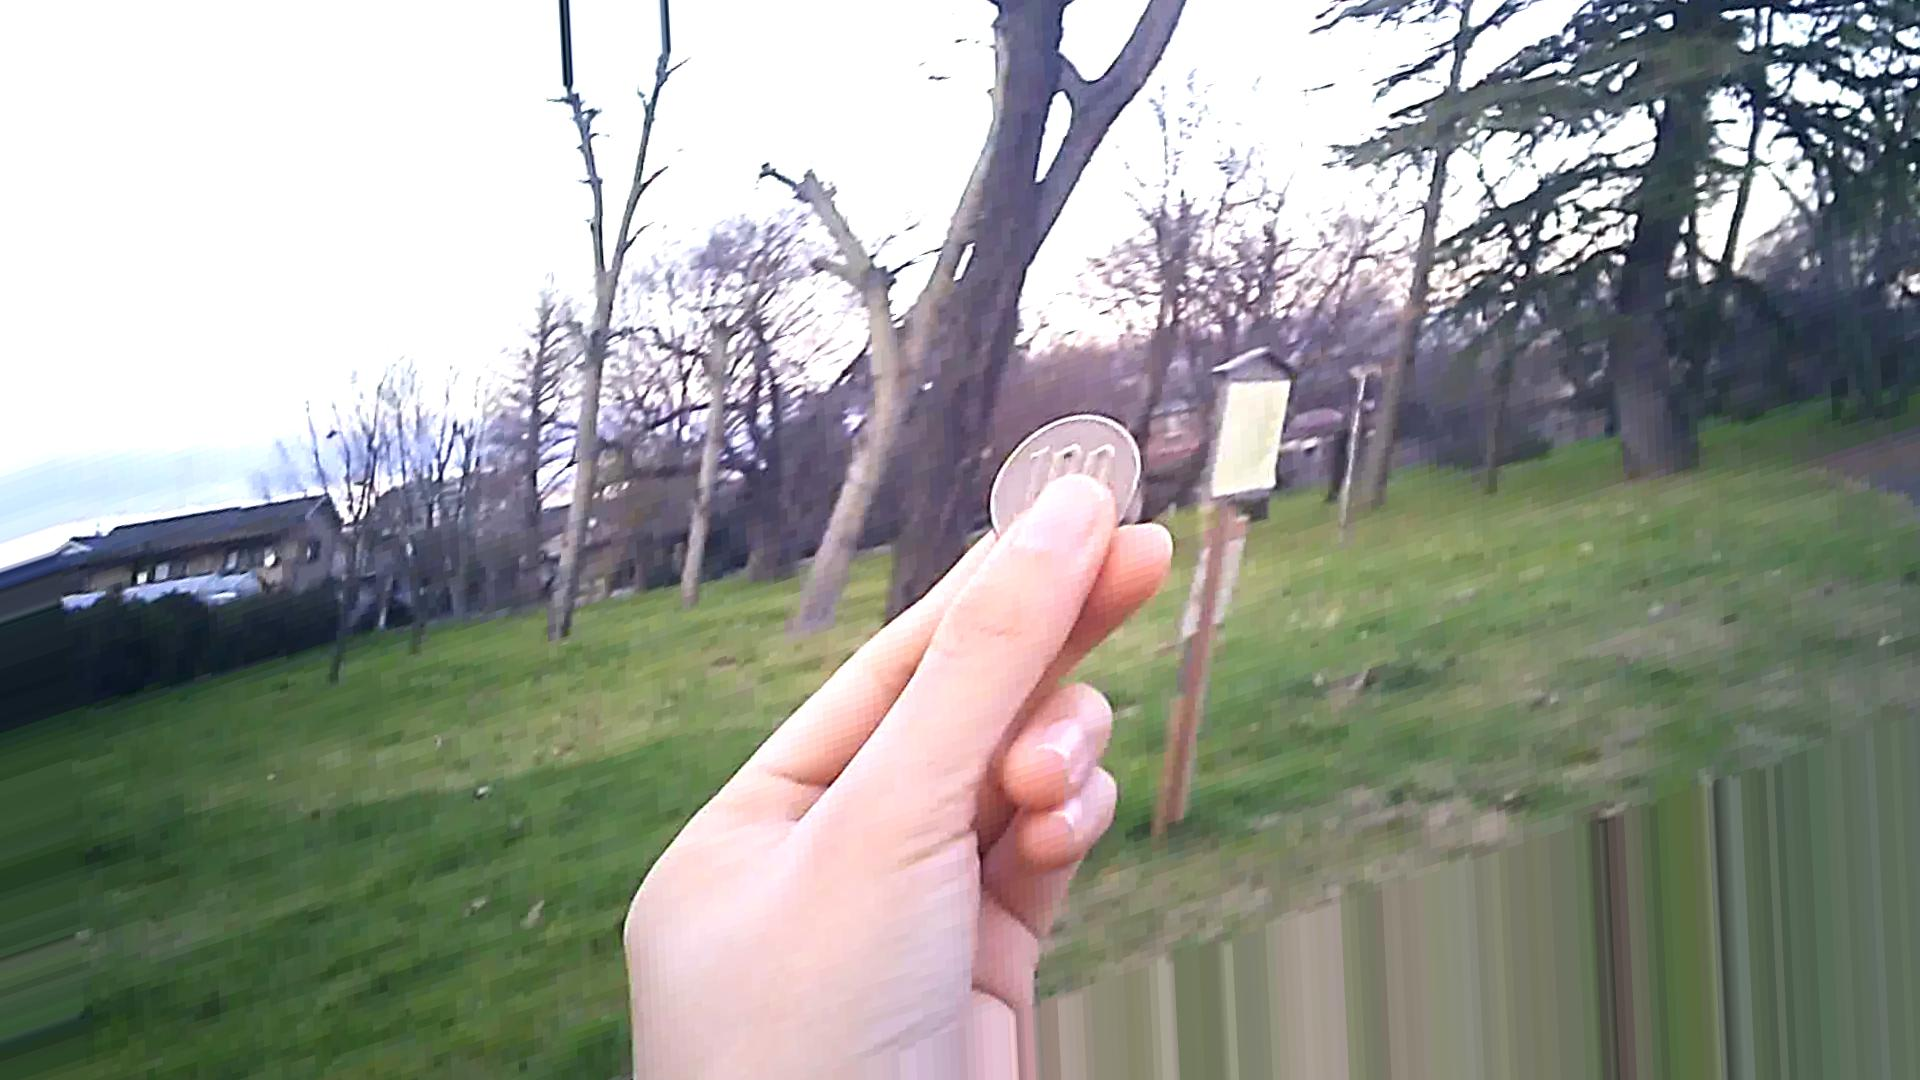100 Yen: (982, 407, 1143, 570)
